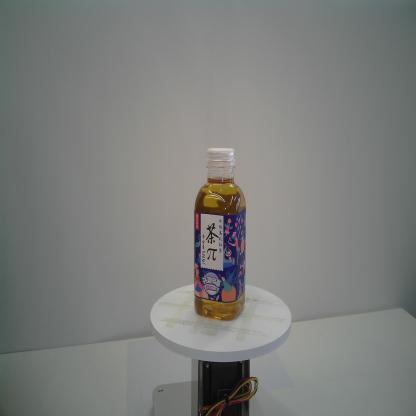Drink: (192, 146, 248, 322)
